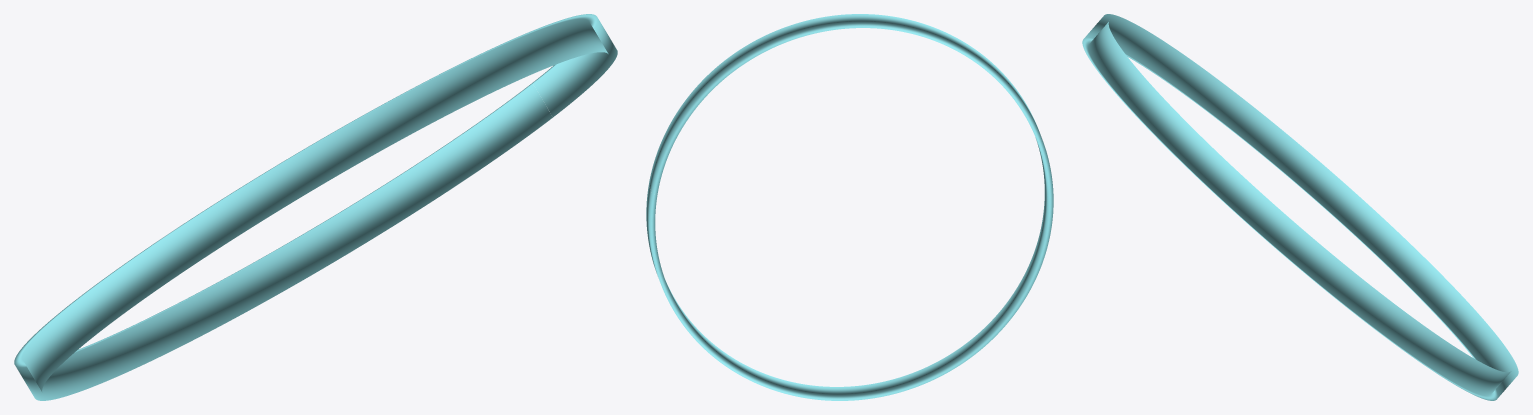
File: coil_coil_17_tube.gltf
3 renders of one model, left to right at view 1: azimuth 30°, elevation 25°; view 2: azimuth 150°, elevation 25°; view 3: azimuth 270°, elevation 25°, orthographic. The views are drawn at different scales.
Visible parts, largest first — view 1: Renderer Node; view 2: Renderer Node; view 3: Renderer Node.
Part boxes in pixels (x1=…): Renderer Node: x1=14, y1=14, x2=617, y2=400; Renderer Node: x1=646, y1=14, x2=1053, y2=400; Renderer Node: x1=1082, y1=14, x2=1518, y2=400.
Bounding box in the file's own units: 0.602 × 0.4428 × 0.4839.
